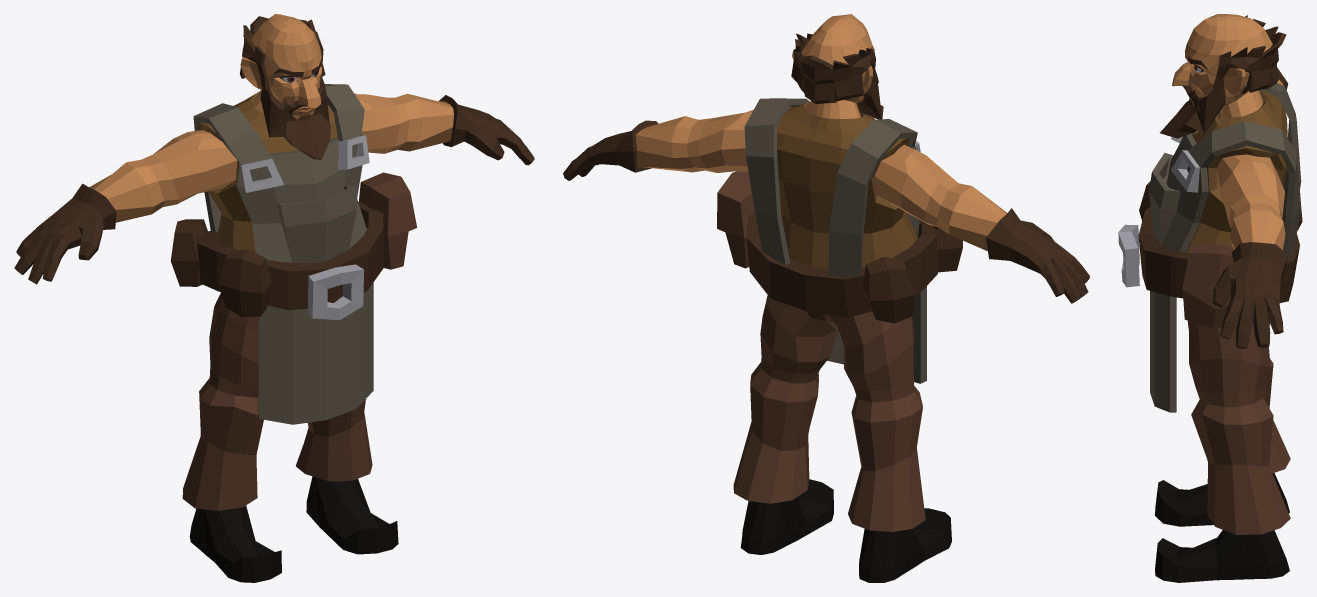
File: Fantasy_M_1.fbx
3 renders of one model, left to right at view 1: azimuth 30°, elevation 25°; view 2: azimuth 150°, elevation 25°; view 3: azimuth 270°, elevation 25°, orthographic.
Visible parts, largest first — view 1: Fantasy_M_1, Fantasy_M_1.006, Fantasy_M_1.002, Fantasy_M_1.004, Fantasy_M_1.003, Fantasy_M_1.005, Fantasy_M_1.001; view 2: Fantasy_M_1, Fantasy_M_1.006, Fantasy_M_1.002, Fantasy_M_1.001, Fantasy_M_1.004, Fantasy_M_1.003; view 3: Fantasy_M_1, Fantasy_M_1.006, Fantasy_M_1.002, Fantasy_M_1.004, Fantasy_M_1.005.
Boxes of the visible parts, <box> form: Fantasy_M_1: <box>14,14,534,582</box>; Fantasy_M_1.006: <box>193,84,373,424</box>; Fantasy_M_1.002: <box>196,201,384,310</box>; Fantasy_M_1.004: <box>359,172,417,269</box>; Fantasy_M_1.003: <box>219,249,271,317</box>; Fantasy_M_1.005: <box>307,264,363,320</box>; Fantasy_M_1.001: <box>170,219,207,286</box>; Fantasy_M_1: <box>563,14,1089,582</box>; Fantasy_M_1.006: <box>744,98,926,383</box>; Fantasy_M_1.002: <box>746,211,937,317</box>; Fantasy_M_1.001: <box>863,256,915,323</box>; Fantasy_M_1.004: <box>717,171,754,268</box>; Fantasy_M_1.003: <box>932,225,962,272</box>; Fantasy_M_1: <box>1155,14,1290,582</box>; Fantasy_M_1.006: <box>1149,83,1301,412</box>; Fantasy_M_1.002: <box>1138,206,1299,302</box>; Fantasy_M_1.004: <box>1182,244,1233,327</box>; Fantasy_M_1.005: <box>1118,224,1139,287</box>.
Size of the model in its own units: 148 by 145 by 45.87.
Materials: 1 (1 with a texture image).
